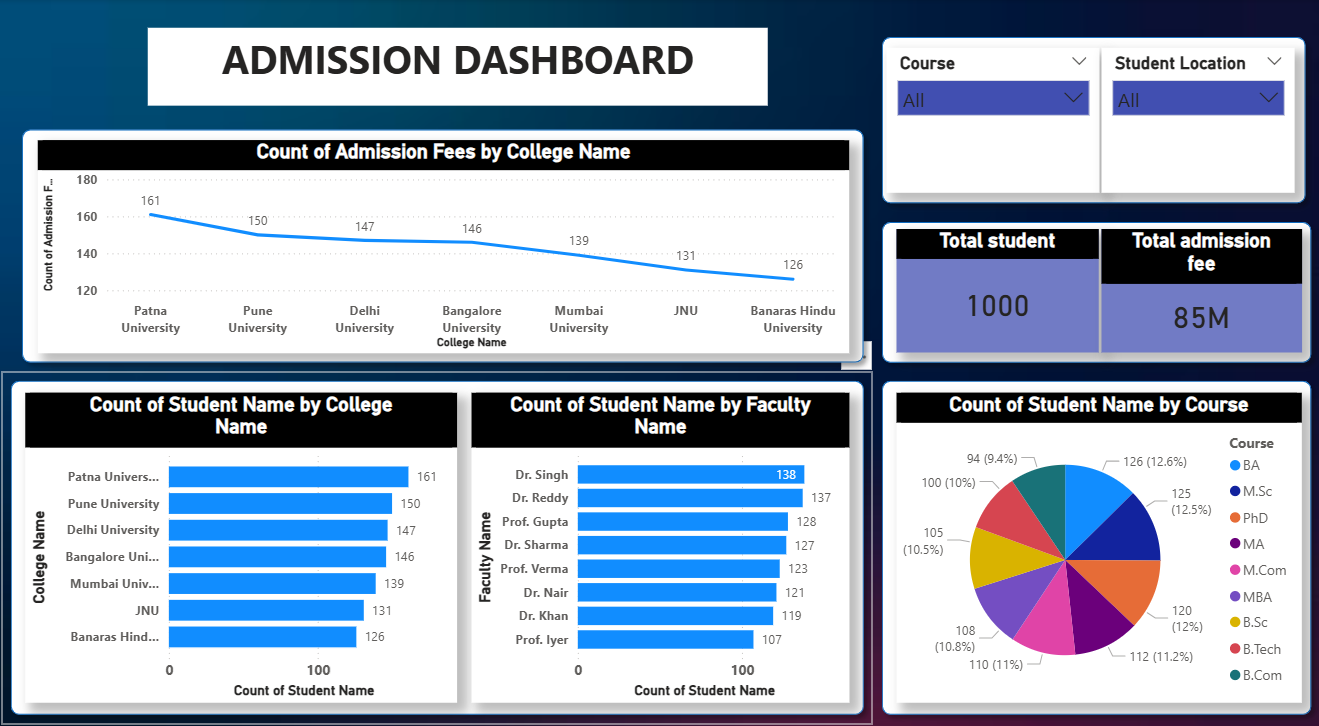

Layout of this report page (visuals, bound fields, positions):
{"tool":"powerbi","page":{"name":"Page 1","canvas":[1280,720],"ordinal":0},"visuals":[{"type":"shape","box":[848,27.4,426.8,178.4],"z":0},{"type":"textbox","box":[148.2,27.4,598.3,75.5],"z":1000},{"type":"card","title":"Total student","fields":{"Values":["CountNonNull(Bi_students_data.Student Name)"]},"box":[871.4,222.3,194.8,119.4],"z":1000,"group":"g2"},{"type":"shape","box":[848,205.8,432.2,153.7],"z":2000},{"type":"card","title":"Total admission fee","fields":{"Values":["Sum(Bi_students_data.Admission Fees)"]},"box":[1069.2,222.3,193.3,119.4],"z":2000,"group":"g2"},{"type":"shape","box":[848,359.5,432.2,340.3],"z":3000},{"type":"clusteredBarChart","fields":{"Category":["Bi_students_data.College Name"],"Y":["CountNonNull(Bi_students_data.Student Name)"]},"box":[30.2,380.1,417.2,299.1],"z":3000,"group":"g1"},{"type":"clusteredBarChart","fields":{"Category":["Bi_students_data.Faculty Name"],"Y":["CountNonNull(Bi_students_data.Student Name)"]},"box":[461.1,380.1,365,299.1],"z":4000,"group":"g1"},{"type":"pieChart","fields":{"Category":["Bi_students_data.Course"],"Y":["CountNonNull(Bi_students_data.Student Name)"]},"box":[871.4,380.1,391.1,299.1],"z":4000},{"type":"shape","box":[6.9,359.5,841.2,340.3],"z":5000},{"type":"group","id":"g1","title":"Group 1","box":[30.2,380.1,795.9,299.1],"z":6000},{"type":"group","id":"g2","title":"Group 2","box":[871.4,222.3,391.1,119.4],"z":7000},{"type":"slicer","fields":{"Values":["Bi_students_data.Course"]},"box":[861.8,46.7,205.8,140],"z":8000,"group":"g3"},{"type":"shape","box":[17.8,116.6,830.2,242.9],"z":8000},{"type":"slicer","fields":{"Values":["Bi_students_data.Student Location"]},"box":[1069,46.7,186.6,140],"z":9000,"group":"g3"},{"type":"lineChart","fields":{"Y":["CountNonNull(Bi_students_data.Admission Fees)"],"Category":["Bi_students_data.College Name"]},"box":[42.5,135.8,783.5,205.8],"z":9000},{"type":"group","id":"g3","title":"Group 3","box":[861.8,46.7,393.8,140],"z":10000}]}

Visuals, with their boxes in screenshot pixels (x1, y1, x2, y2), scaled from the page's 1280x720 canvas onto the 1319x726 screenshot:
shape: detection(874, 28, 1314, 208)
textbox: detection(153, 28, 769, 104)
"Total student" card: detection(898, 224, 1099, 345)
shape: detection(874, 208, 1318, 362)
"Total admission fee" card: detection(1102, 224, 1301, 345)
shape: detection(874, 362, 1318, 706)
clusteredBarChart - Bi_students_data.College Name x CountNonNull(Bi_students_data.Student Name): detection(31, 383, 461, 685)
clusteredBarChart - Bi_students_data.Faculty Name x CountNonNull(Bi_students_data.Student Name): detection(475, 383, 851, 685)
pieChart - Bi_students_data.Course x CountNonNull(Bi_students_data.Student Name): detection(898, 383, 1301, 685)
shape: detection(7, 362, 874, 706)
"Group 1" group: detection(31, 383, 851, 685)
"Group 2" group: detection(898, 224, 1301, 345)
slicer - Bi_students_data.Course: detection(888, 47, 1100, 188)
shape: detection(18, 118, 874, 362)
slicer - Bi_students_data.Student Location: detection(1102, 47, 1294, 188)
lineChart - CountNonNull(Bi_students_data.Admission Fees) x Bi_students_data.College Name: detection(44, 137, 851, 344)
"Group 3" group: detection(888, 47, 1294, 188)
